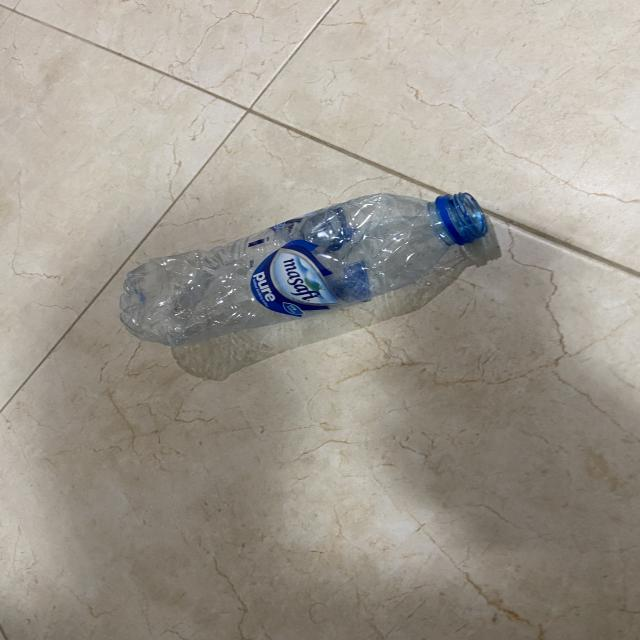plastic bottle: (101, 185, 511, 362)
